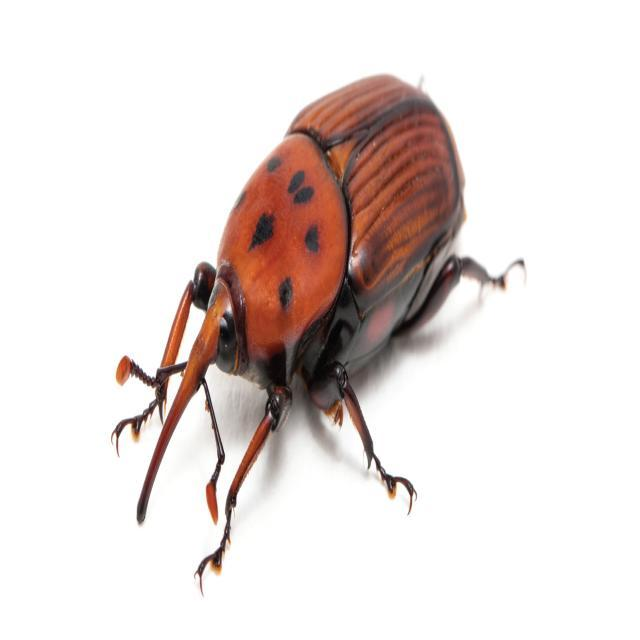Red-palm-weevil: (113, 75, 470, 517)
